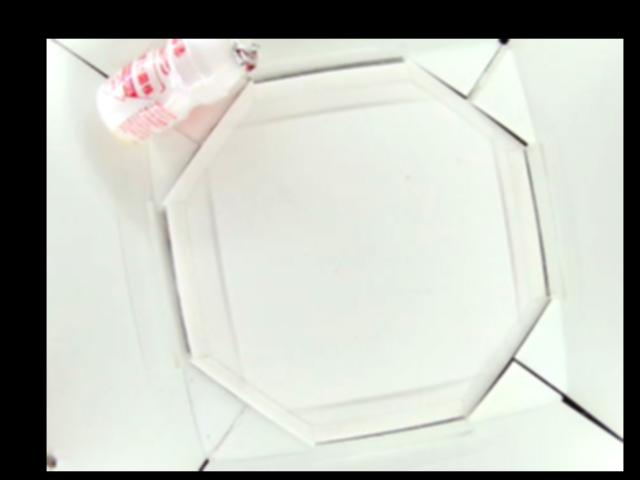Bottle: (95, 39, 259, 145)
